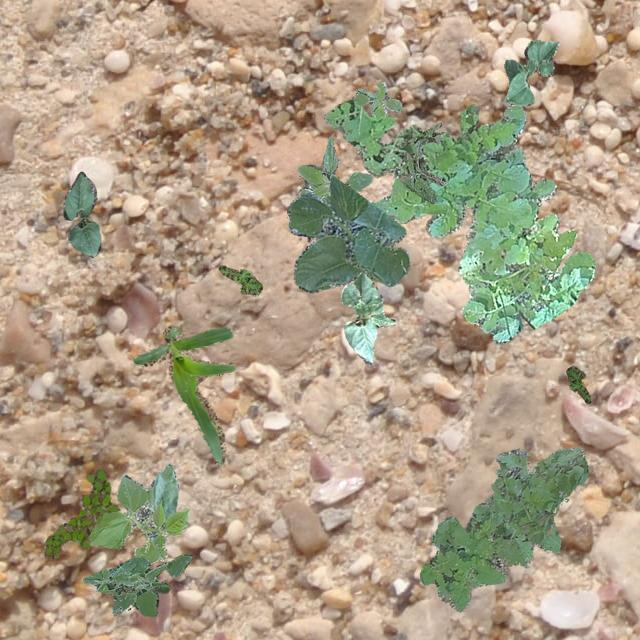crop: (286, 175, 410, 292), (132, 326, 235, 464), (86, 462, 188, 564), (296, 134, 372, 202), (340, 270, 394, 364), (504, 40, 558, 104), (62, 170, 100, 256)
weed: (324, 99, 594, 342), (418, 446, 588, 612), (43, 468, 119, 560), (81, 552, 190, 616), (398, 121, 444, 202), (350, 80, 400, 116), (218, 264, 262, 294), (566, 364, 590, 402)
